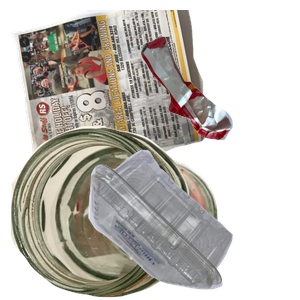glass: (10, 126, 220, 300)
paper: (10, 10, 210, 175)
plastic: (86, 147, 300, 300)
trash: (139, 34, 300, 167)
